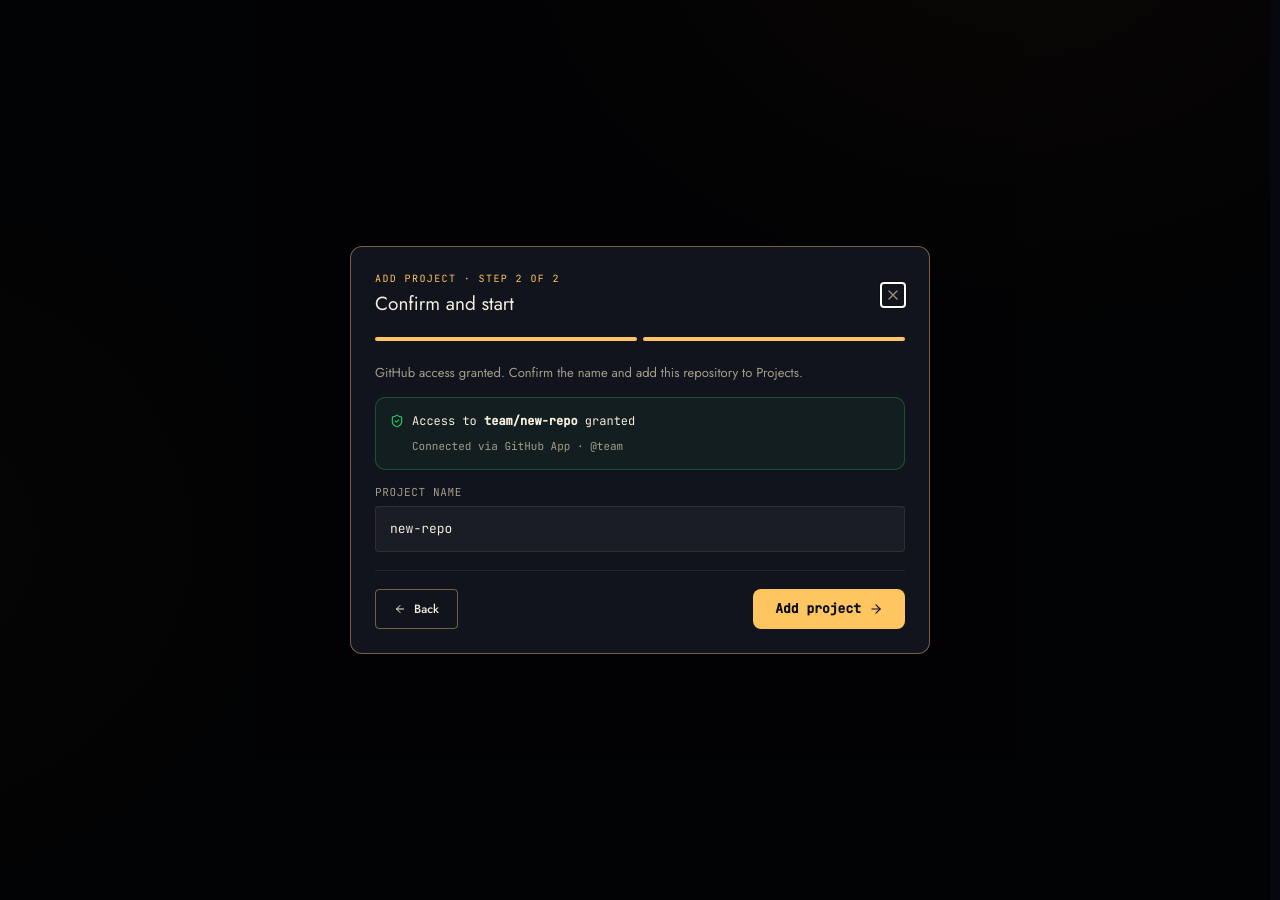
it: Add Project persistence handoff › retains the saved ID if list refresh fails, allowing refresh without duplicate creation
This screenshot has width=1280, height=900.
Later steps or results of the test are not shown.
Click the button with test id "wizard-save" at (829, 609), box [753, 589, 905, 629]
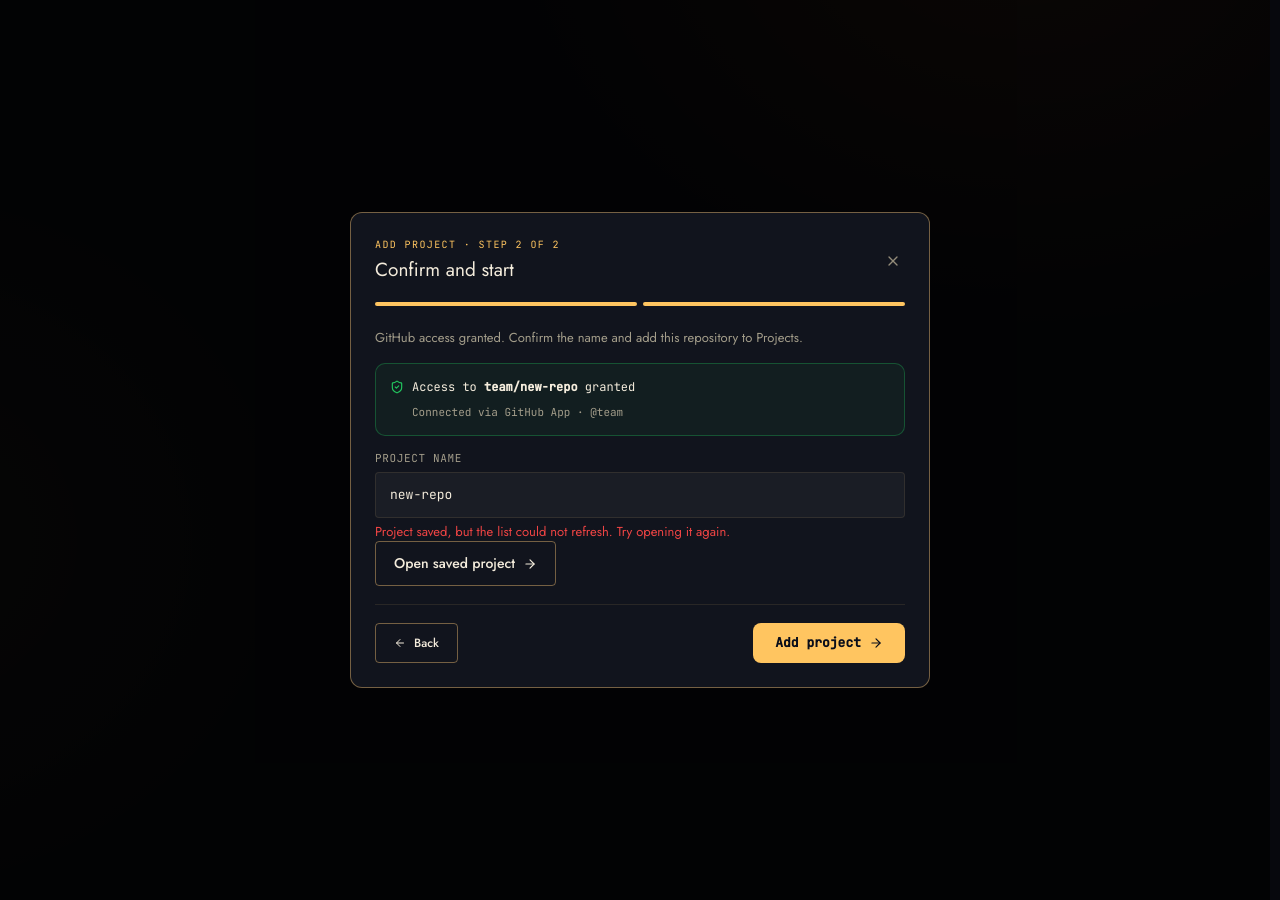
expect the message with test id "add-wizard-save-error" shows "Project saved": met, box [375, 522, 730, 541]
